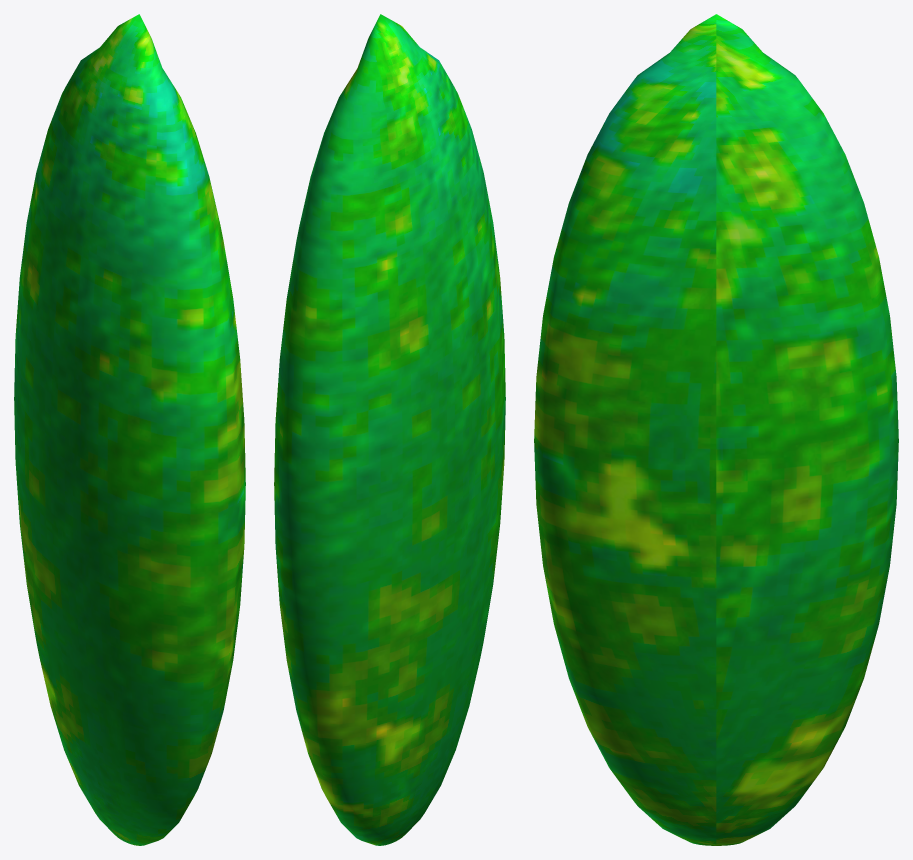
The model's file is seed.fbx.
3 renders of one model, left to right at view 1: azimuth 30°, elevation 25°; view 2: azimuth 150°, elevation 25°; view 3: azimuth 270°, elevation 25°, orthographic.
Parts seen in each view (by area): view 1: seed; view 2: seed; view 3: seed.
Part boxes in pixels (bbox=[...]): seed: bbox=[14, 14, 245, 845]; seed: bbox=[274, 14, 505, 845]; seed: bbox=[534, 14, 898, 845].
Size of the model in its own units: 1.45 by 7.76 by 3.07.
Materials: 1 (1 with a texture image).
